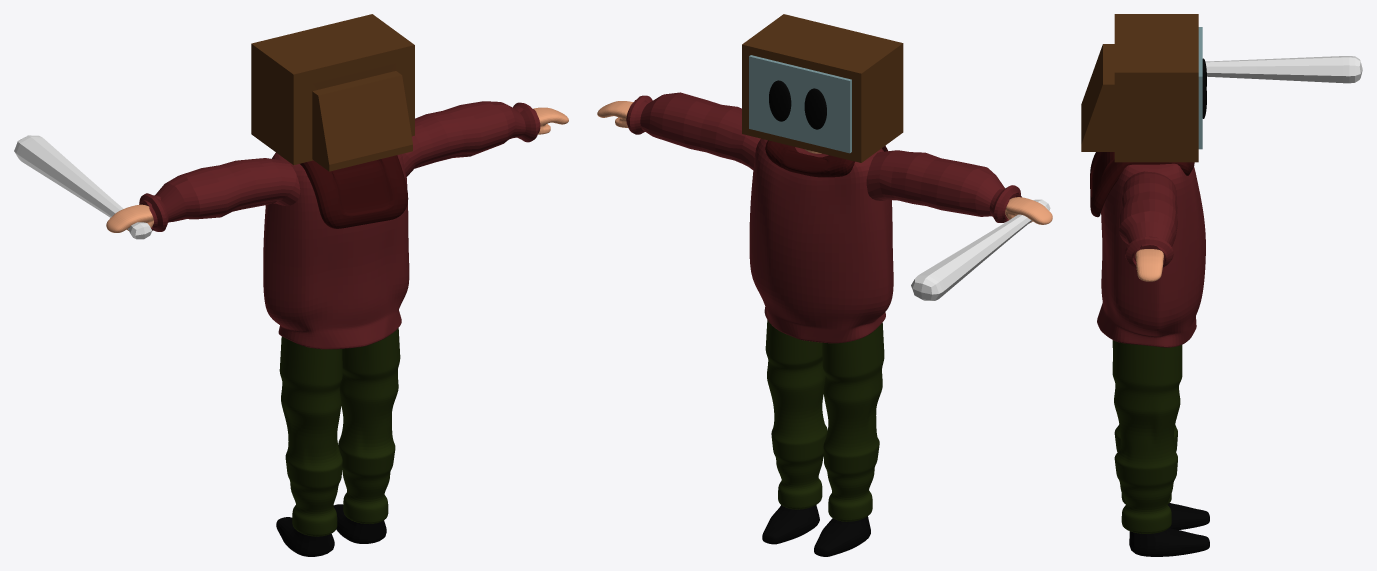
The model's file is personajePintadoConBate.fbx.
3 renders of one model, left to right at view 1: azimuth 30°, elevation 25°; view 2: azimuth 150°, elevation 25°; view 3: azimuth 270°, elevation 25°, orthographic.
Parts seen in each view (by area): view 1: Cabeza, Piernas, Torso, Brazos, Capucha, Cube.001, Zapatillas, ManoDer; view 2: Torso, Piernas, Brazos, Cabeza, PantallaCabeza, Cube.001, Zapatillas, Capucha, ManoDer, OjoIzq, OjoDer, ManoIzq; view 3: Cabeza, Torso, Piernas, Brazos, Cube.001, Zapatillas, Capucha, ManoIzq, PantallaCabeza.
Part boxes in pixels (bbox=[...]): Cabeza: bbox=[251, 14, 414, 171]; Piernas: bbox=[279, 328, 400, 536]; Torso: bbox=[263, 152, 409, 349]; Brazos: bbox=[139, 101, 540, 231]; Capucha: bbox=[300, 155, 408, 228]; Cube.001: bbox=[14, 135, 152, 239]; Zapatillas: bbox=[276, 504, 386, 556]; ManoDer: bbox=[106, 204, 153, 232]; Torso: bbox=[749, 138, 893, 343]; Piernas: bbox=[765, 320, 884, 521]; Brazos: bbox=[626, 92, 1021, 222]; Cabeza: bbox=[742, 14, 903, 162]; PantallaCabeza: bbox=[749, 55, 851, 153]; Cube.001: bbox=[911, 199, 1050, 300]; Zapatillas: bbox=[762, 505, 870, 556]; Capucha: bbox=[765, 140, 887, 177]; ManoDer: bbox=[1005, 197, 1052, 224]; OjoIzq: bbox=[769, 80, 791, 121]; OjoDer: bbox=[804, 88, 826, 129]; ManoIzq: bbox=[597, 101, 633, 127]; Cabeza: bbox=[1081, 14, 1198, 162]; Torso: bbox=[1097, 163, 1205, 347]; Piernas: bbox=[1112, 340, 1182, 533]; Brazos: bbox=[1119, 171, 1177, 268]; Cube.001: bbox=[1205, 56, 1362, 83]; Zapatillas: bbox=[1129, 503, 1209, 556]; Capucha: bbox=[1090, 152, 1194, 217]; ManoIzq: bbox=[1135, 249, 1163, 281]; PantallaCabeza: bbox=[1198, 27, 1202, 149].
Size of the model in its own units: 393 by 409 by 211.
